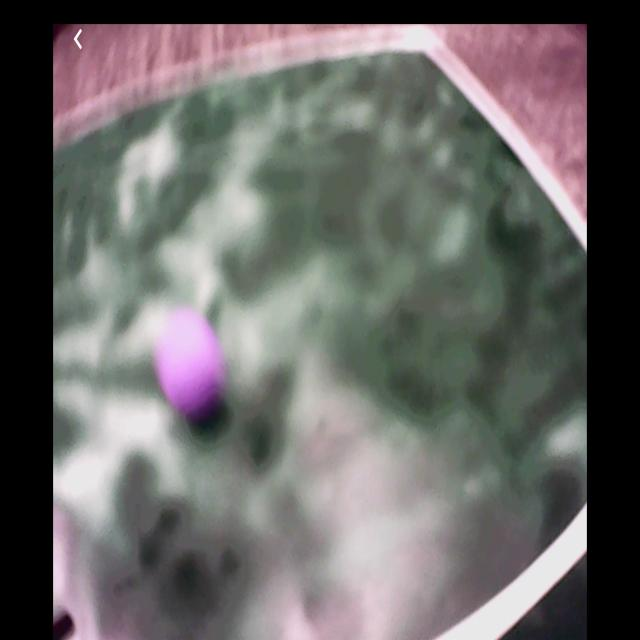ball: (153, 308, 222, 420)
